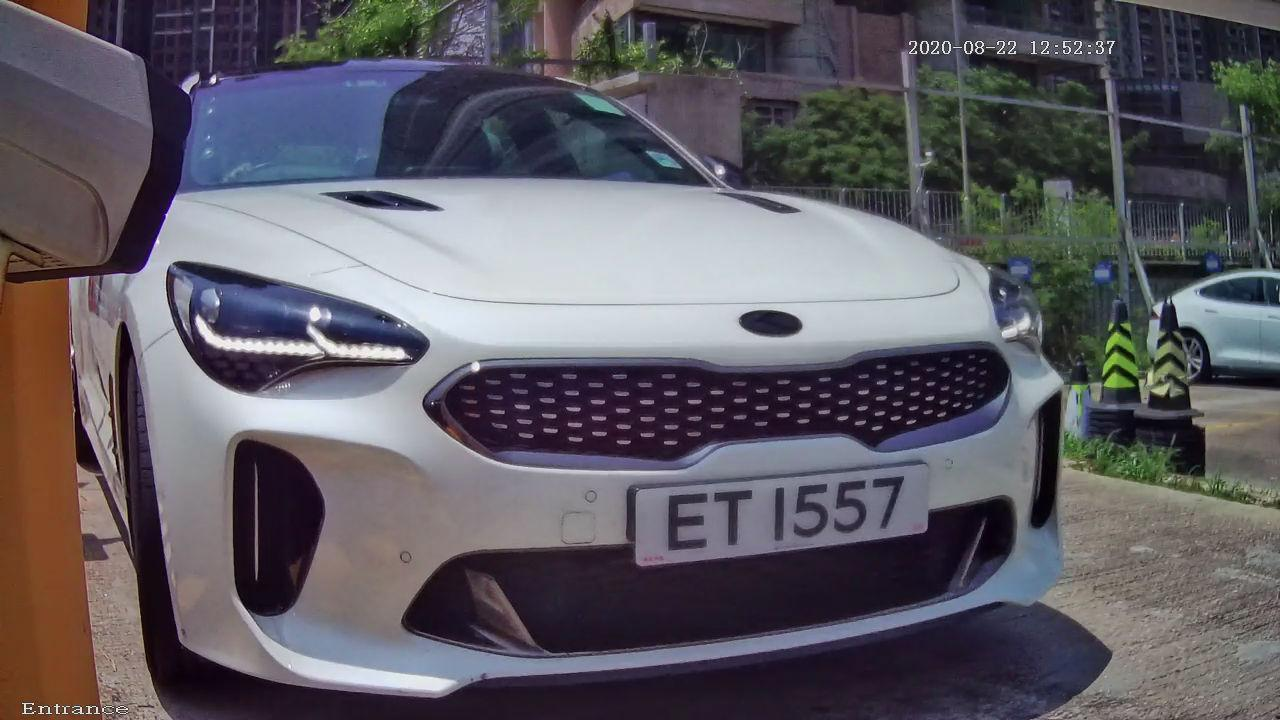License Plate: (623, 454, 938, 576)
